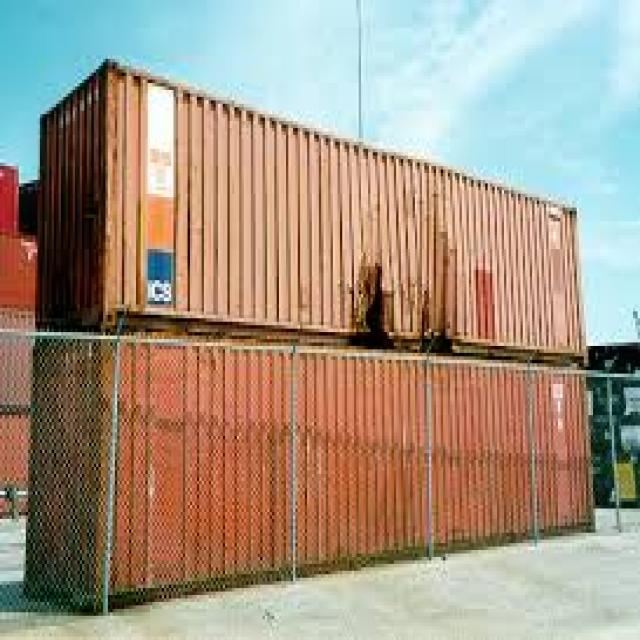hole: (343, 245, 409, 353), (416, 294, 472, 357)
